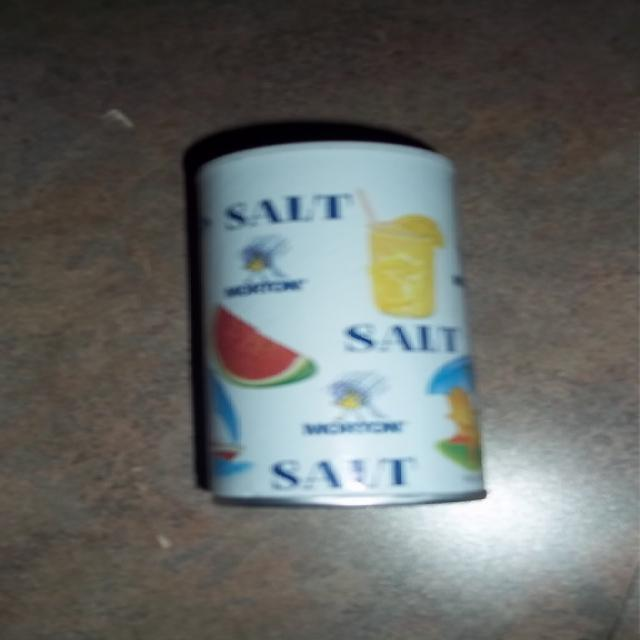Watermelon: (214, 305, 318, 385)
